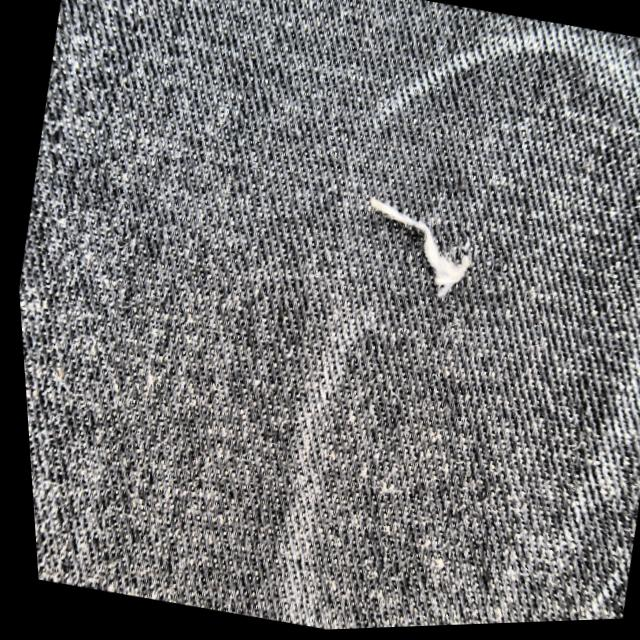Stitch: (309, 137, 531, 379)
